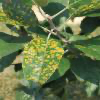Apple rust leaf: (21, 37, 64, 94), (0, 3, 44, 29), (67, 35, 99, 60), (64, 1, 99, 18)
